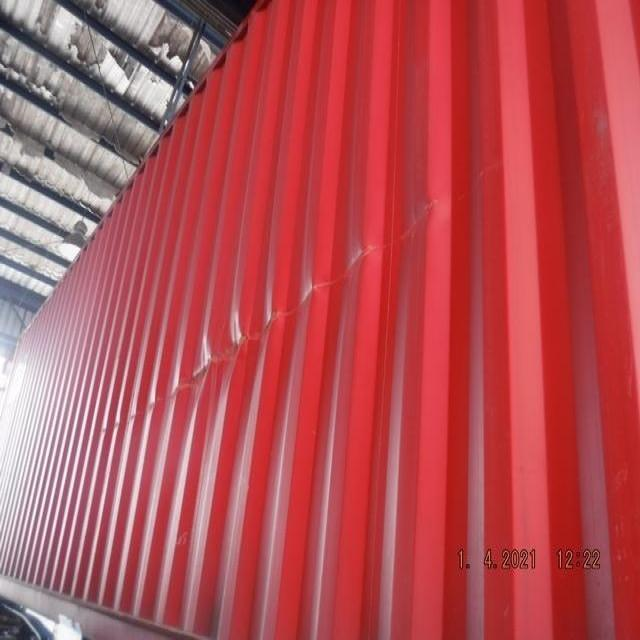Dent: (140, 227, 383, 428)
